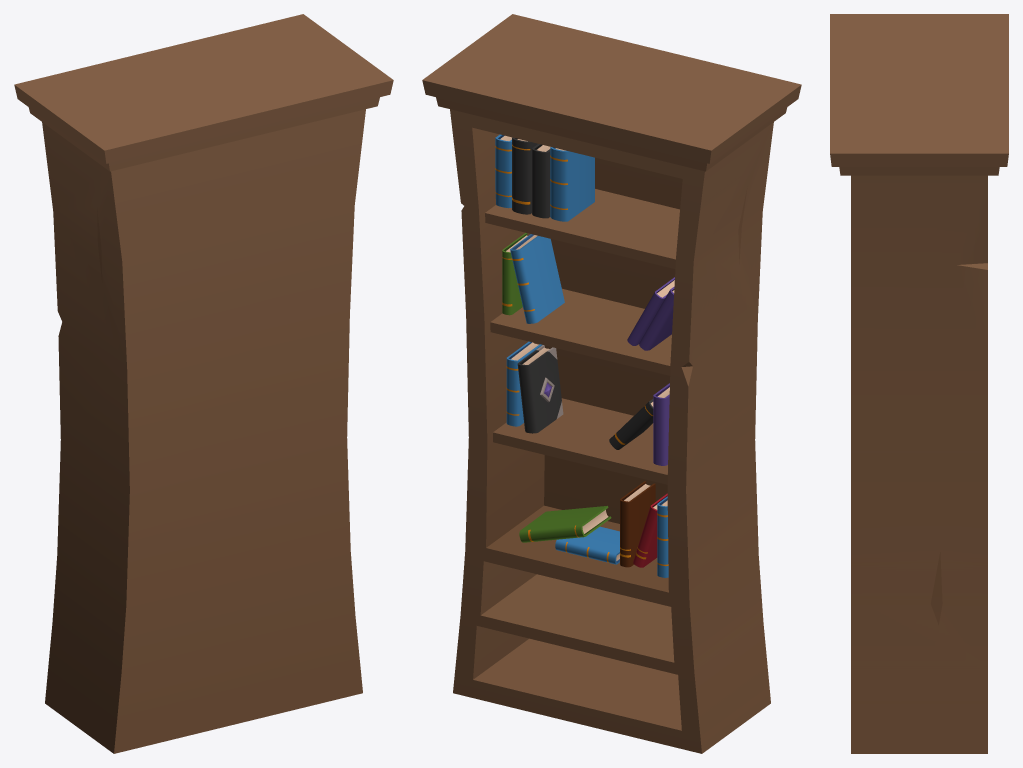
File: ShelfPattern_01.fbx
3 views of the same model, side by side, from view 1: azimuth 30°, elevation 25°; view 2: azimuth 150°, elevation 25°; view 3: azimuth 270°, elevation 25° (orthographic).
Parts seen in each view (by area): view 1: ShelfPattern_01; view 2: ShelfPattern_01; view 3: ShelfPattern_01.
Boxes of the visible parts, box(x1,y1,x2,y2) form: ShelfPattern_01: box(14, 14, 393, 753); ShelfPattern_01: box(422, 14, 801, 753); ShelfPattern_01: box(830, 14, 1008, 753).
Size of the model in its own units: 99.08 by 202 by 53.61.
